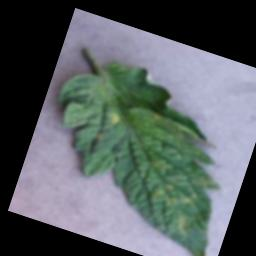Leaf_Mold: (105, 110, 121, 127)
